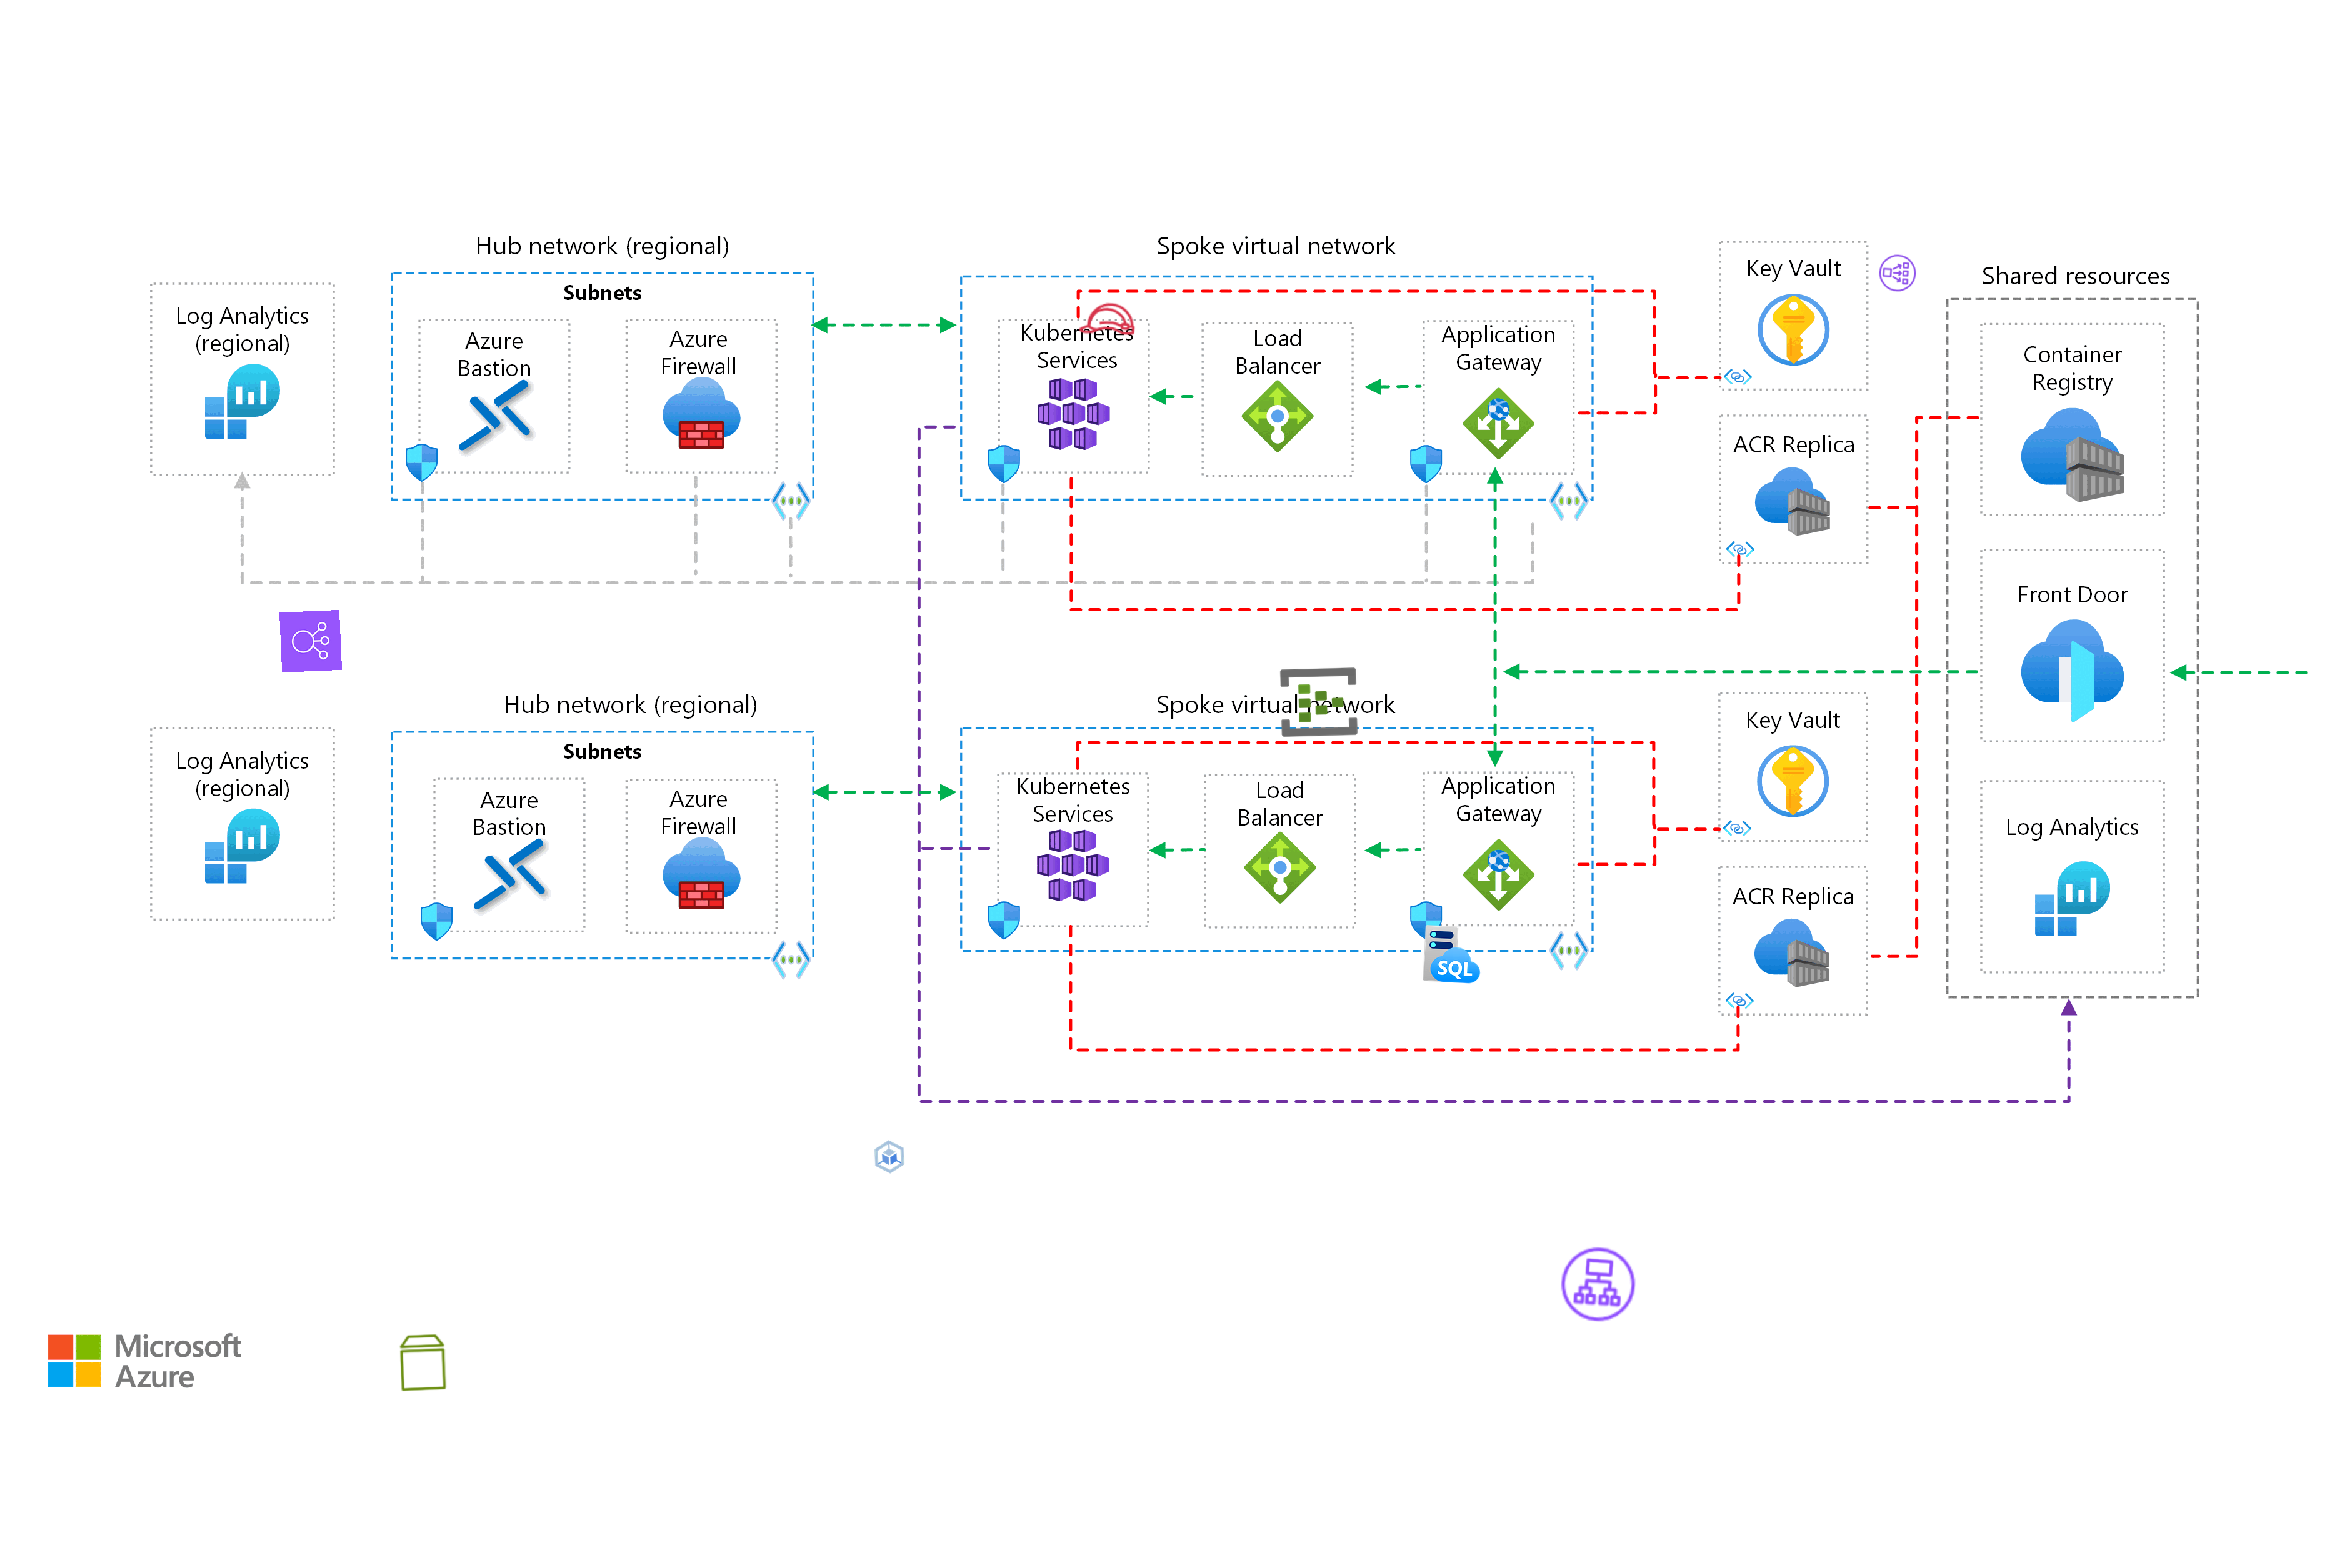aws_elastic_block_store_volume: (392, 1332, 455, 1393)
aws_elastic_load_balancing: (278, 609, 343, 674)
aws_elastic_load_balancing_application_load_balancer: (1556, 1241, 1642, 1328)
aws_elastic_load_balancing_network_load_balancer: (1876, 252, 1918, 294)
aws_identity_access_management_role: (1075, 287, 1139, 352)
azure_event_hubs: (1277, 660, 1360, 744)
azure_sql_managed_instance: (1421, 922, 1484, 987)
gcp_google_kubernetes_engine: (868, 1136, 910, 1178)
